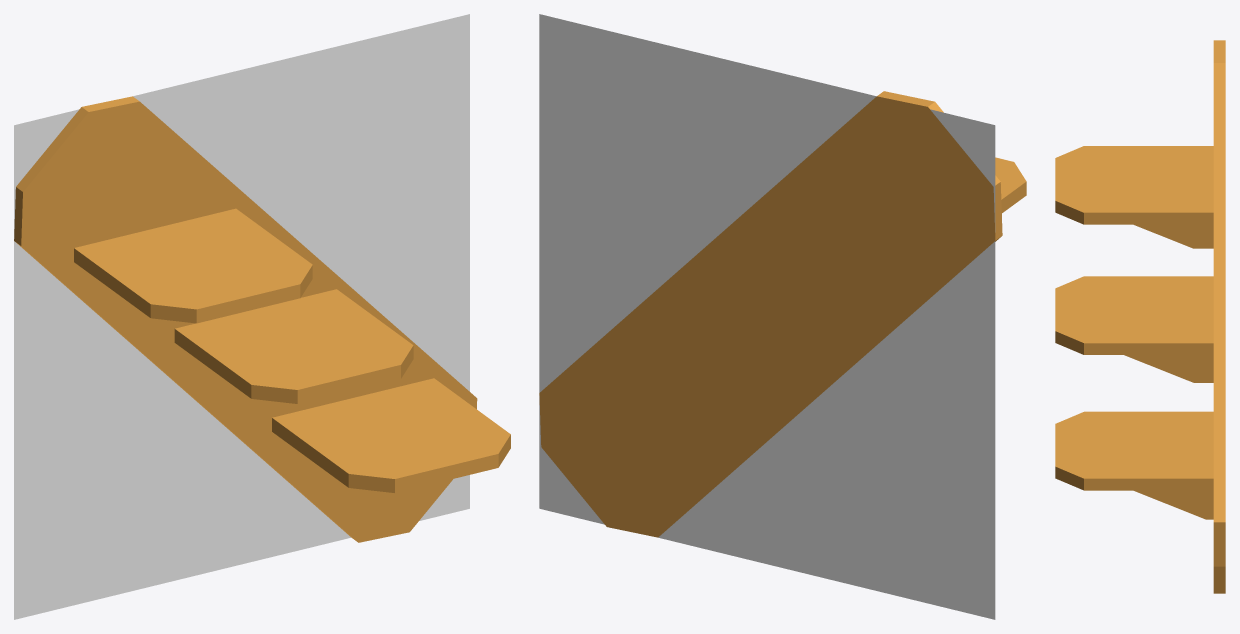
File: 三层跳台-左.glb
3 views of the same model, side by side, from view 1: azimuth 30°, elevation 25°; view 2: azimuth 150°, elevation 25°; view 3: azimuth 270°, elevation 25° (orthographic). The views are drawn at different scales.
Visible parts, largest first — view 1: 三层跳台-左, 立方体, 平面.008, 平面.006, 平面.007; view 2: 三层跳台-左, 立方体, 平面.008, 平面.020; view 3: 平面.006, 平面.008, 平面.007, 立方体, 平面.019, 平面.020, 平面.021.
Part boxes in pixels (x1,y1,x2,y2): 三层跳台-左: (14, 14, 469, 619); 立方体: (14, 96, 477, 542); 平面.008: (74, 208, 312, 323); 平面.006: (272, 378, 510, 492); 平面.007: (174, 289, 413, 403); 三层跳台-左: (539, 14, 995, 619); 立方体: (539, 91, 1002, 537); 平面.008: (995, 157, 1026, 212); 平面.020: (644, 402, 657, 469); 平面.006: (1055, 411, 1213, 490); 平面.008: (1055, 146, 1213, 224); 平面.007: (1055, 276, 1213, 354); 立方体: (1213, 40, 1225, 593); 平面.019: (1124, 355, 1213, 382); 平面.020: (1134, 490, 1213, 519); 平面.021: (1134, 224, 1213, 248).
Bounding box in the file's own units: 0.5625 × 0.5876 × 0.2152.
